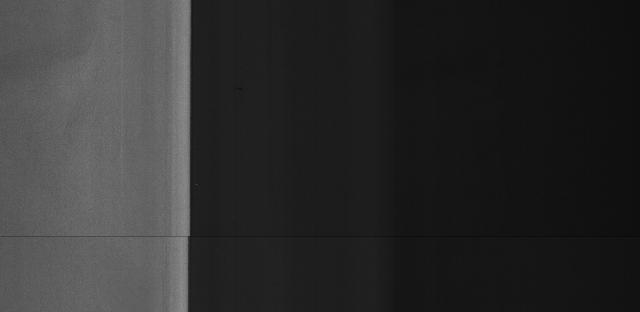welding_line: (2, 226, 195, 245)
